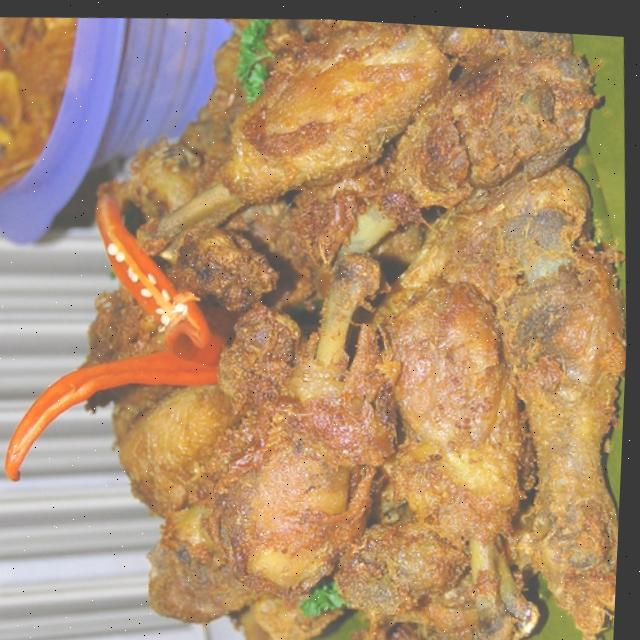鸡肉料理 含炸鸡: (17, 2, 640, 640)
